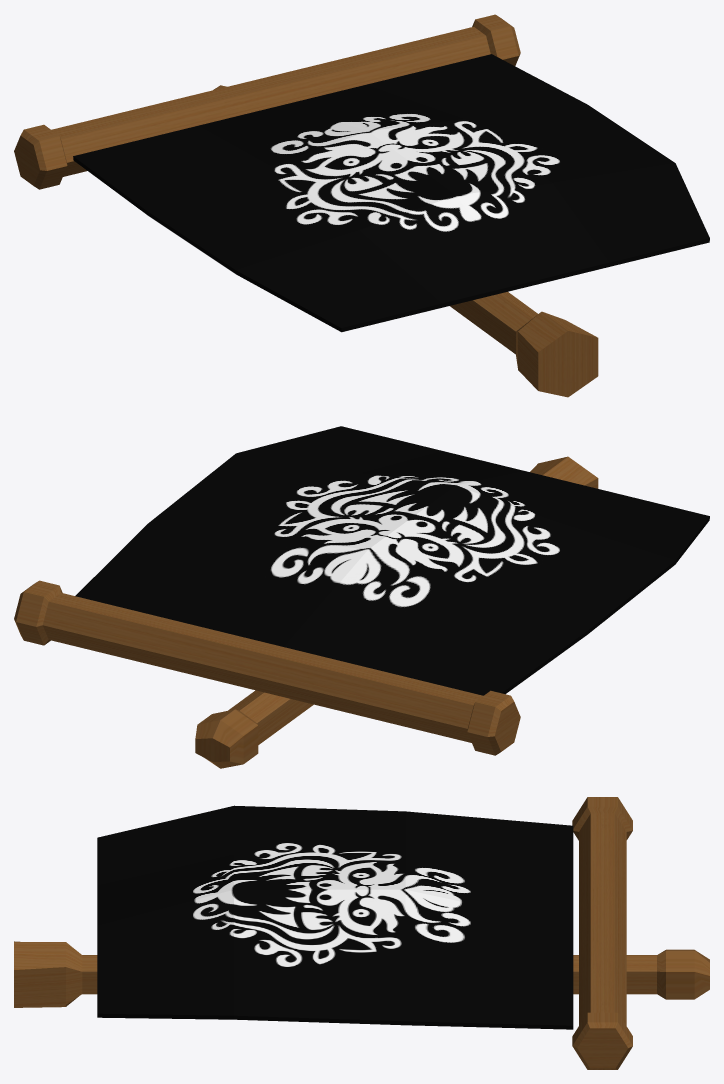
The model's file is sail_a_3.fbx.
3 views of the same model, one above another, from view 1: azimuth 30°, elevation 25°; view 2: azimuth 150°, elevation 25°; view 3: azimuth 270°, elevation 25° (orthographic). The views are drawn at different scales.
Parts seen in each view (by area): view 1: Cube.053; view 2: Cube.053; view 3: Cube.053.
Boxes of the visible parts, x1,y1,x2,y2 form: Cube.053: (14, 14, 709, 397); Cube.053: (14, 426, 709, 768); Cube.053: (14, 797, 709, 1069).
Bounding box in the file's own units: 80.15 × 19.1 × 103.
